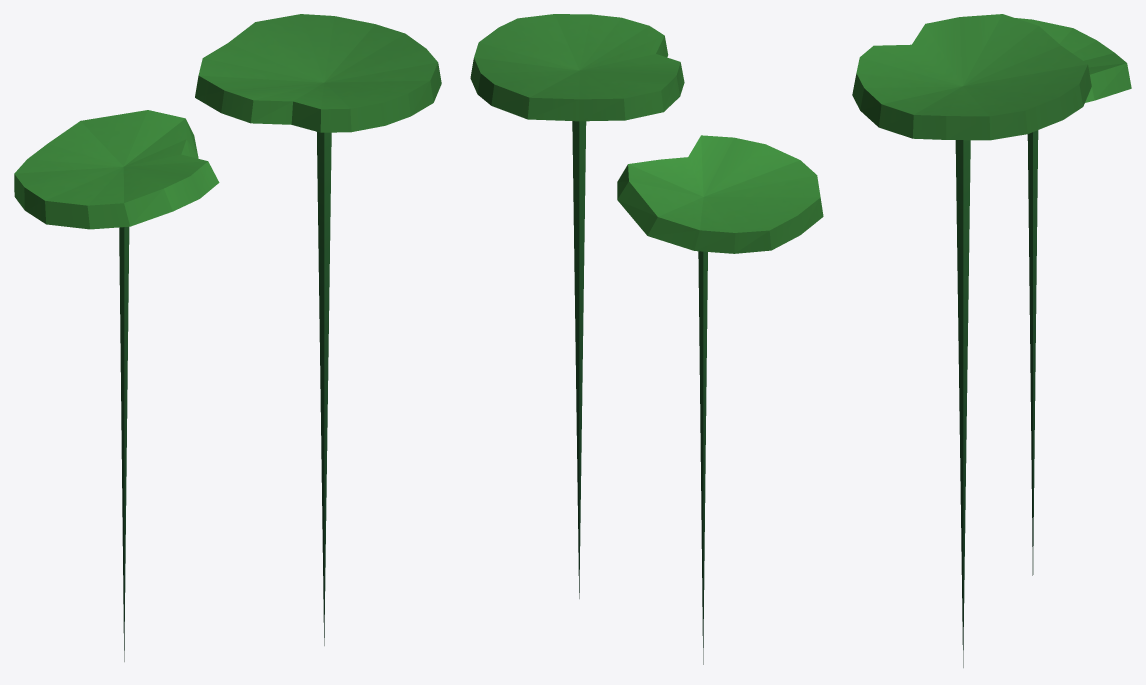
File: ZLP_Grass_E_1.FBX
The picture shows the model from 3 angles, left to right: view 1: azimuth 30°, elevation 25°; view 2: azimuth 150°, elevation 25°; view 3: azimuth 270°, elevation 25°; orthographic projection. The views are drawn at different scales.
Parts seen in each view (by area): view 1: ZLP_Grass_E_1; view 2: ZLP_Grass_E_1; view 3: ZLP_Grass_E_1.
Boxes of the visible parts, left/top/right/bottom form: ZLP_Grass_E_1: left=14, top=14, right=441, bottom=661; ZLP_Grass_E_1: left=470, top=14, right=823, bottom=664; ZLP_Grass_E_1: left=852, top=14, right=1131, bottom=667.
Size of the model in its own units: 62.6 by 96.63 by 40.42.
